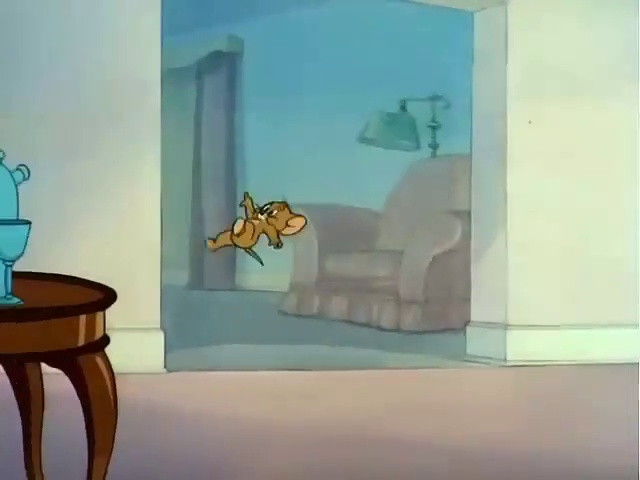jerry: (184, 172, 318, 263)
